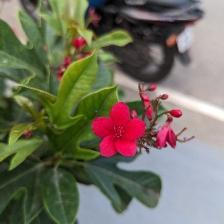jatropha: (92, 104, 150, 159)
